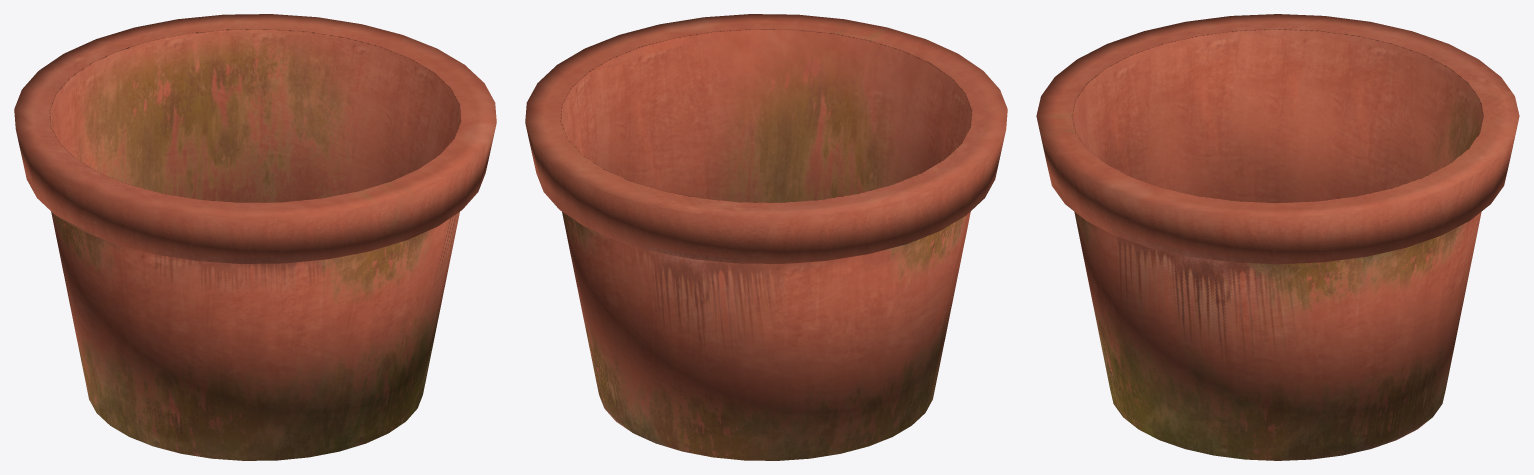
Rendered from pot.glb.
The picture shows the model from 3 angles, left to right: view 1: azimuth 30°, elevation 25°; view 2: azimuth 150°, elevation 25°; view 3: azimuth 270°, elevation 25°; orthographic projection.
Visible parts, largest first — view 1: Cylinder; view 2: Cylinder; view 3: Cylinder.
Part boxes in pixels (x1=…): Cylinder: x1=14, y1=14, x2=496, y2=460; Cylinder: x1=525, y1=14, x2=1007, y2=460; Cylinder: x1=1036, y1=14, x2=1519, y2=460.
Bounding box in the file's own units: 320 × 200 × 320.
Materials: 1 (1 with a texture image).
